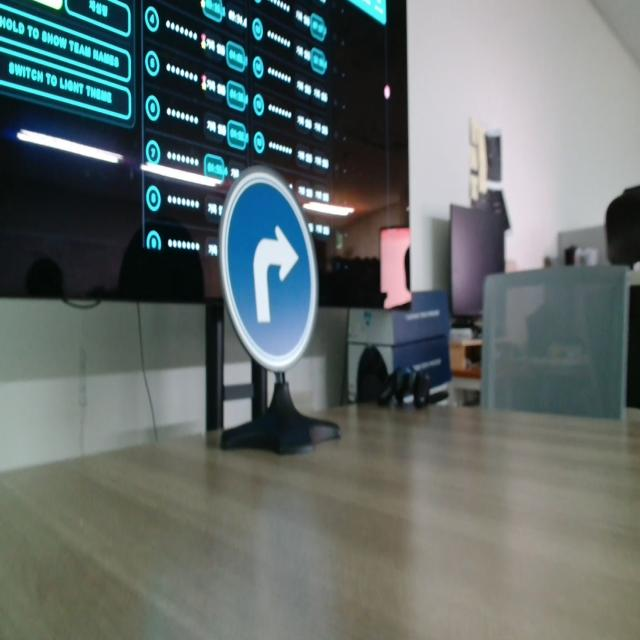right_dierection: (207, 153, 329, 366)
